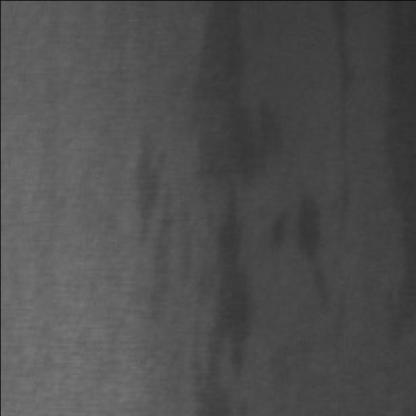inclusion: (183, 0, 260, 395), (376, 6, 410, 320), (268, 174, 333, 328), (115, 116, 168, 254), (322, 0, 359, 162)
